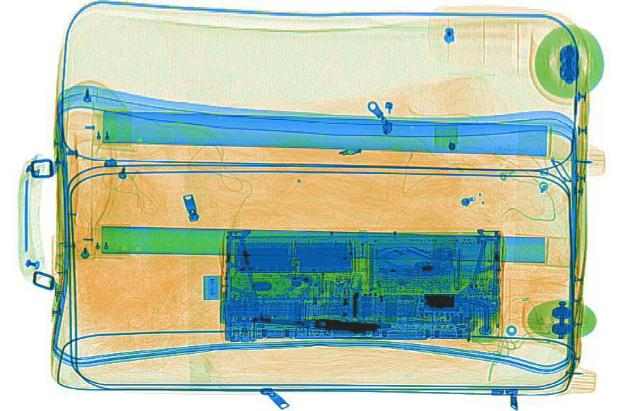Gun: (248, 310, 390, 334)
